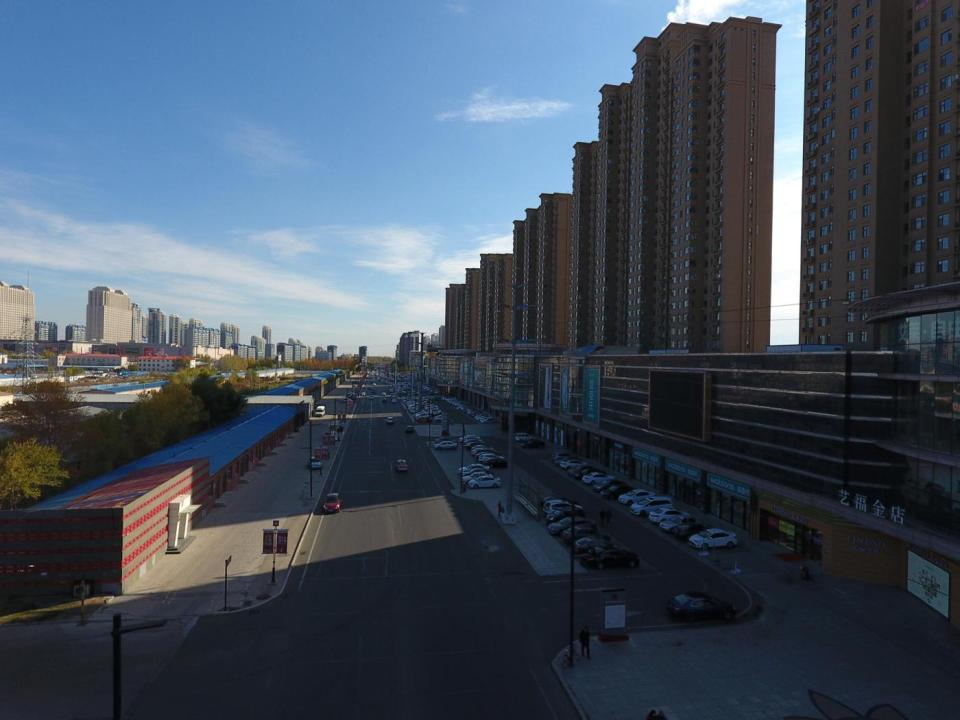bus: (315, 406, 325, 417), (371, 388, 375, 393), (361, 390, 365, 394), (372, 377, 375, 379)
car: (667, 592, 737, 620), (584, 545, 639, 569), (563, 526, 610, 546), (573, 536, 622, 555), (549, 516, 597, 535), (689, 529, 737, 547), (630, 497, 675, 516), (660, 514, 701, 534), (674, 521, 715, 540), (546, 509, 588, 526), (649, 508, 690, 524), (618, 489, 656, 506), (602, 484, 639, 501), (582, 470, 619, 487), (594, 478, 631, 494), (544, 502, 583, 517), (540, 496, 578, 511), (568, 462, 605, 477), (575, 466, 611, 481), (550, 450, 586, 465), (559, 456, 596, 470), (555, 454, 591, 468), (467, 475, 500, 489), (462, 471, 493, 484), (462, 468, 492, 480), (464, 463, 494, 475), (323, 493, 341, 512), (475, 448, 505, 459), (482, 458, 511, 469), (475, 450, 504, 461), (479, 454, 508, 464), (472, 447, 498, 457), (472, 444, 498, 454), (466, 442, 493, 451), (463, 440, 489, 449), (463, 437, 485, 446), (434, 441, 458, 449), (521, 440, 545, 448), (459, 435, 480, 444), (394, 458, 408, 471), (307, 456, 322, 468), (516, 432, 534, 441), (434, 438, 456, 444), (441, 394, 458, 400), (474, 413, 490, 419), (472, 412, 488, 418), (468, 410, 484, 416), (456, 404, 472, 410), (458, 402, 474, 408), (454, 400, 470, 406), (450, 399, 466, 405), (445, 396, 461, 402), (404, 398, 416, 406), (409, 404, 421, 412), (405, 401, 418, 408), (467, 409, 482, 415), (461, 406, 476, 412), (452, 400, 467, 406), (448, 398, 463, 404), (416, 412, 430, 418), (476, 416, 492, 421), (416, 417, 432, 422), (470, 411, 486, 416), (427, 406, 440, 412), (422, 402, 435, 408), (402, 397, 415, 403), (404, 400, 417, 406), (409, 406, 422, 412), (448, 397, 463, 402), (435, 411, 447, 417), (426, 405, 438, 411), (424, 403, 436, 409), (420, 399, 432, 405), (420, 397, 432, 403), (419, 398, 431, 404), (407, 404, 419, 410), (408, 404, 420, 410), (411, 408, 423, 414), (464, 408, 478, 413), (481, 418, 494, 423), (416, 413, 429, 418), (434, 416, 450, 420), (405, 425, 414, 432), (433, 410, 445, 415), (431, 409, 443, 414), (419, 396, 431, 401), (346, 394, 358, 399), (346, 392, 356, 397), (387, 417, 394, 424), (313, 402, 320, 408), (342, 398, 352, 402), (368, 395, 373, 400), (391, 396, 396, 400), (382, 398, 387, 402), (392, 399, 396, 403), (382, 392, 386, 396), (361, 392, 365, 396), (391, 394, 396, 397), (391, 395, 396, 398), (389, 389, 393, 392), (368, 376, 371, 380), (385, 381, 388, 384), (384, 380, 387, 383), (371, 381, 374, 384), (368, 387, 371, 390), (373, 383, 376, 385), (378, 379, 380, 381)
